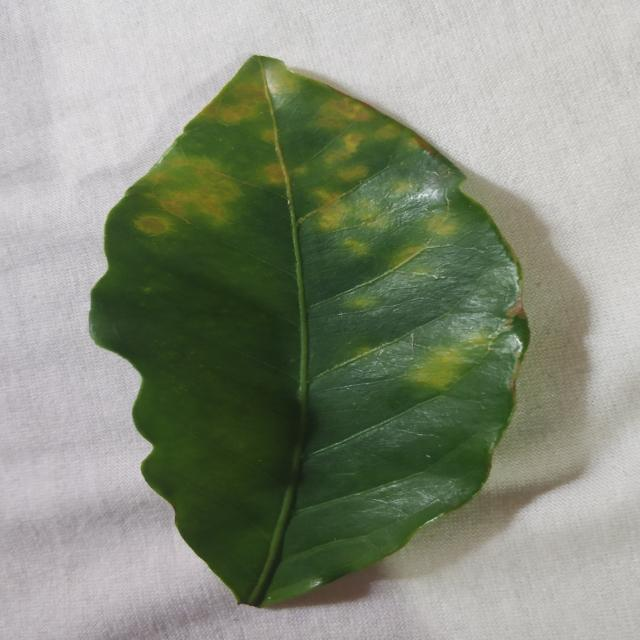Enfermedad-Roya: (87, 55, 530, 612)
